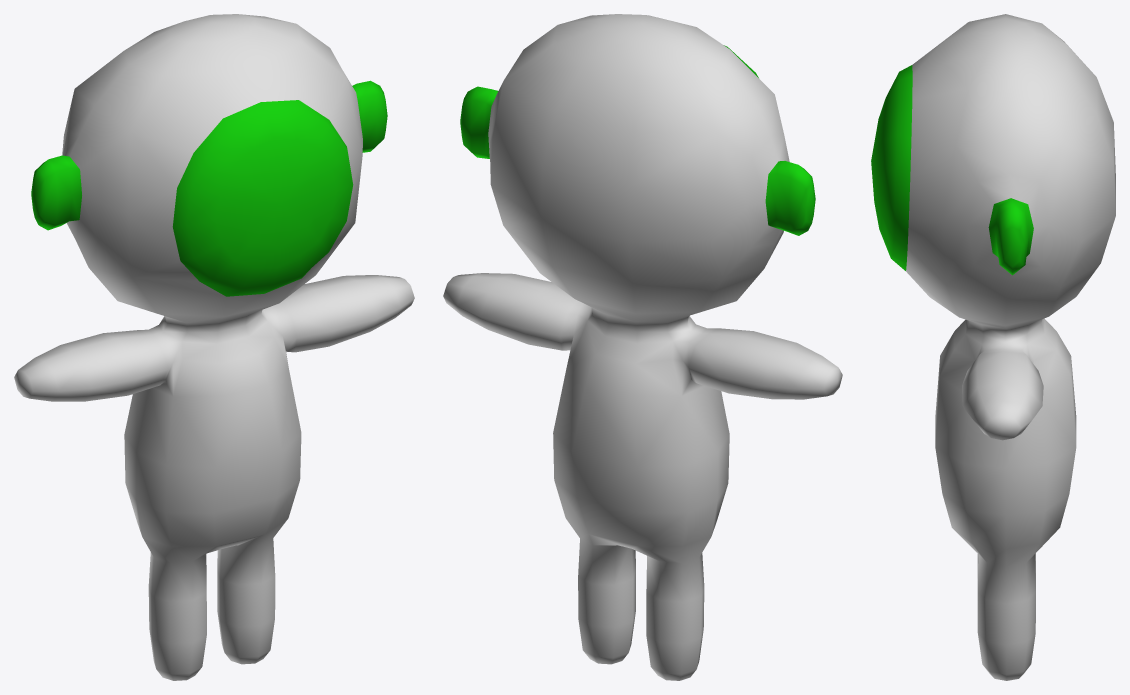
File: Zip_Rig.FBX
The picture shows the model from 3 angles, left to right: view 1: azimuth 30°, elevation 25°; view 2: azimuth 150°, elevation 25°; view 3: azimuth 270°, elevation 25°; orthographic projection. The views are drawn at different scales.
Visible parts, largest first — view 1: Cylinder001; view 2: Cylinder001; view 3: Cylinder001.
Part boxes in pixels (x1,y1,x2,y2): Cylinder001: (14, 14, 414, 680); Cylinder001: (443, 14, 842, 680); Cylinder001: (871, 14, 1115, 680).
Size of the model in its own units: 104 by 166 by 58.41.
